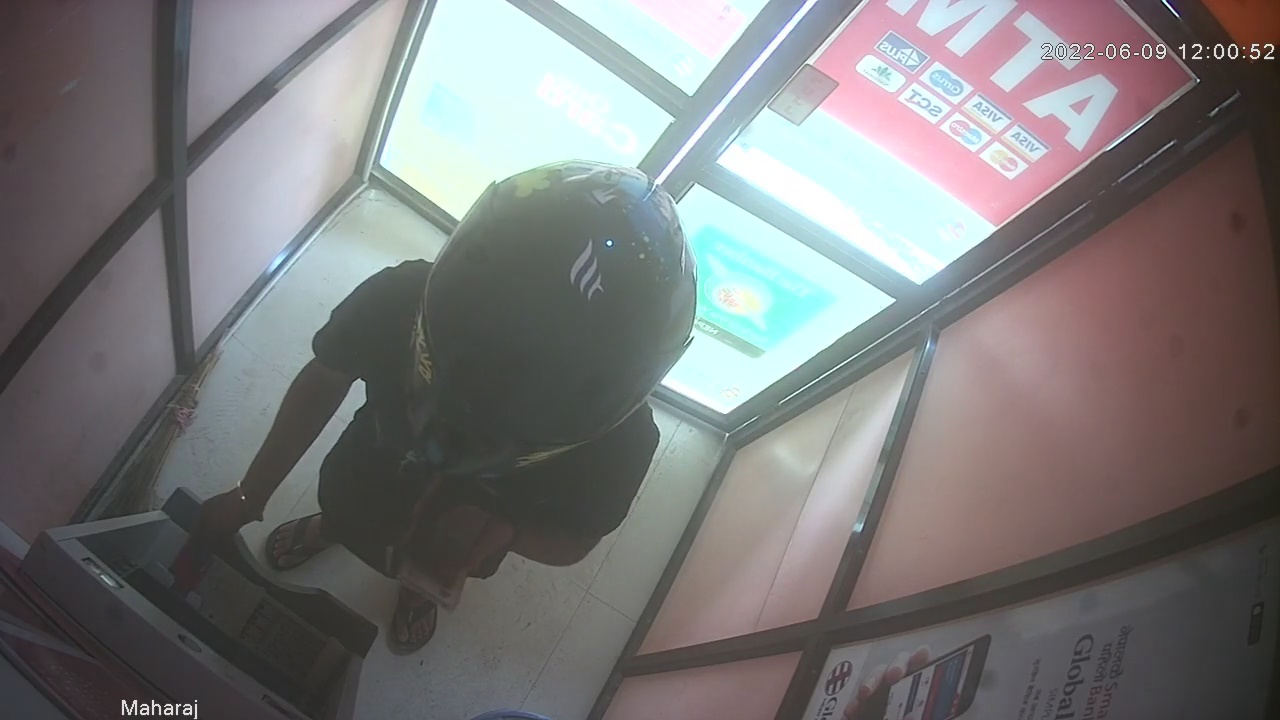helmet: (399, 159, 694, 474)
person: (193, 154, 699, 657)
